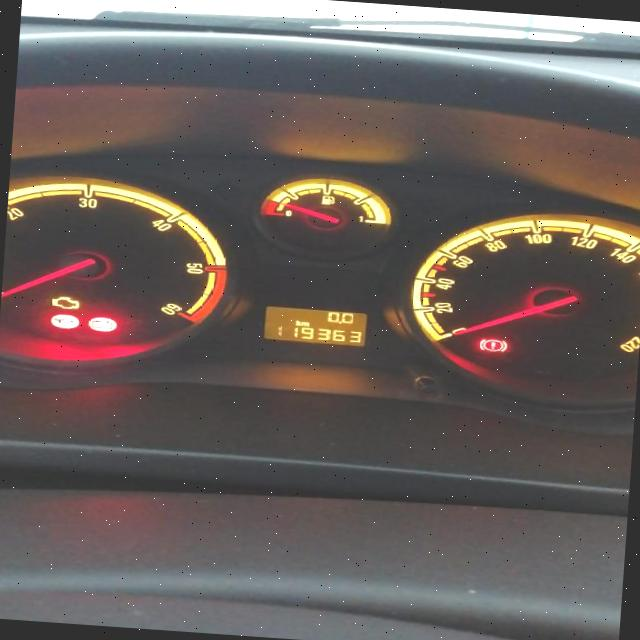odometer: (260, 302, 370, 348)
